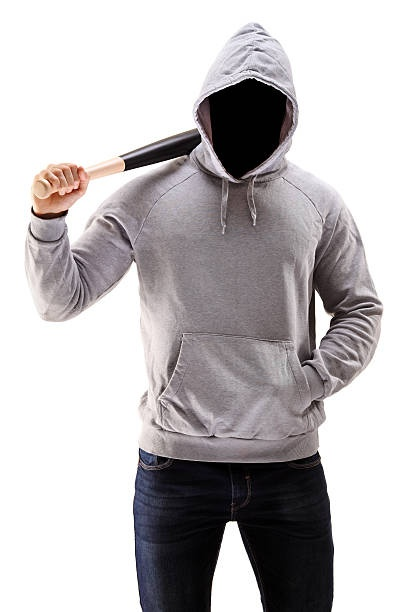bita: (35, 134, 189, 197)
